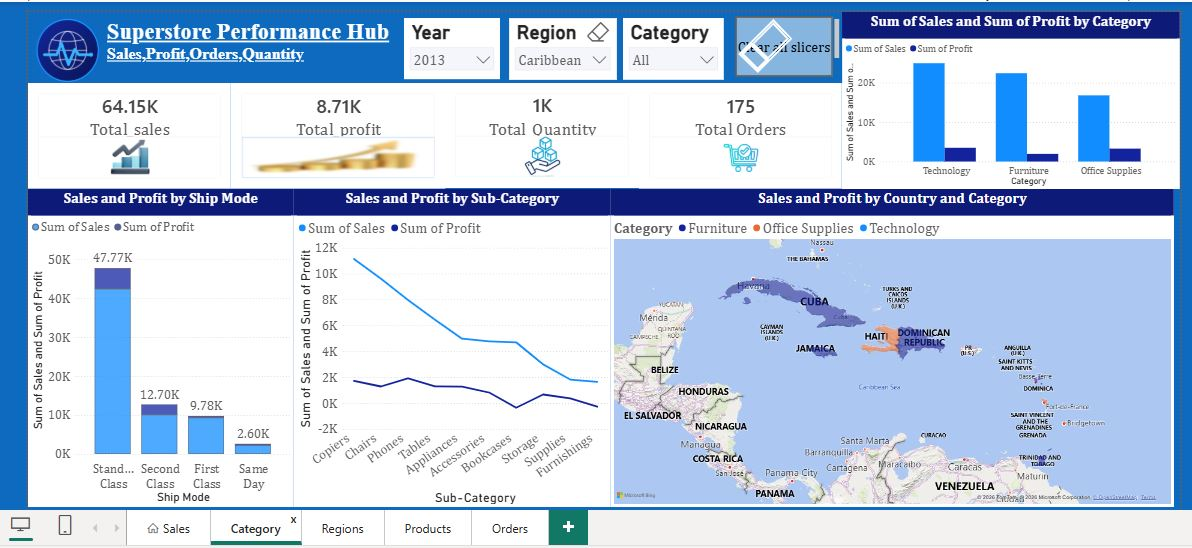

Layout of this report page (visuals, bound fields, positions):
{"tool":"powerbi","page":{"name":"Category","canvas":[1920,1080],"ordinal":1},"visuals":[{"type":"lineStackedColumnComboChart","title":"Sales and Profit by Ship Mode","fields":{"Category":["Orders.Ship Mode"],"Y":["Sum(Orders.Sales)","Sum(Orders.Profit)"]},"box":[0,295,443.3,530],"z":0},{"type":"filledMap","title":"Sales and Profit by Country and Category","fields":{"Category":["Orders.Country"],"Series":["Orders.Category"]},"box":[971.7,295,938.3,530],"z":1000},{"type":"lineChart","title":"Sales and Profit by Sub-Category","fields":{"Category":["Orders.Sub-Category"],"Y":["Sum(Orders.Sales)","Sum(Orders.Profit)"]},"box":[443.3,295,528.3,530],"z":2000},{"type":"clusteredColumnChart","fields":{"Category":["Orders.Category"],"Y":["Sum(Orders.Sales)","Sum(Orders.Profit)"]},"box":[1357.1,0,563.5,295.2],"z":3000},{"type":"textbox","title":"Superstore Performance Hub","box":[0,6.3,1357.1,111.1],"z":4000},{"type":"image","box":[6.3,9.5,119,107.9],"z":5000},{"type":"slicer","fields":{"Values":["Custom_Calender.Date.Variation.Date Hierarchy.Year"]},"box":[627,9.5,160.3,101.6],"z":6000},{"type":"slicer","fields":{"Values":["Orders.Category"]},"box":[992.1,9.5,168.3,103.2],"z":7000},{"type":"slicer","fields":{"Values":["Orders.Region"]},"box":[801.6,9.5,179.4,103.2],"z":8000},{"type":"actionButton","box":[1177.8,6.3,163.5,101.6],"z":9000},{"type":"cardVisual","fields":{"Data":["Profit-measures.Total_sales"]},"box":[0,119,338.1,176.2],"z":10000},{"type":"cardVisual","fields":{"Data":["Profit-measures.Totl_qunatity"]},"box":[695.2,119,323.8,174.6],"z":11000},{"type":"cardVisual","fields":{"Data":["Profit-measures.Total Orders"]},"box":[1019,119,338.1,176.2],"z":12000},{"type":"cardVisual","fields":{"Data":["Profit-measures.Total_profit"]},"box":[338.1,119,357.1,176.2],"z":13000}]}

Visuals, with their boxes on the page's 1920x1080 design canvas (x1, y1, x2, y2). These are canvas units, not pixel positions in the 1192x548 screenshot, which may show the page scaled, cropped or inside an application window:
"Sales and Profit by Ship Mode" lineStackedColumnComboChart: (left=0, top=295, right=443, bottom=825)
"Sales and Profit by Country and Category" filledMap: (left=972, top=295, right=1910, bottom=825)
"Sales and Profit by Sub-Category" lineChart: (left=443, top=295, right=972, bottom=825)
clusteredColumnChart - Orders.Category x Sum(Orders.Sales): (left=1357, top=0, right=1921, bottom=295)
"Superstore Performance Hub" textbox: (left=0, top=6, right=1357, bottom=117)
image: (left=6, top=10, right=125, bottom=117)
slicer - Custom_Calender.Date.Variation.Date Hierarchy.Year: (left=627, top=10, right=787, bottom=111)
slicer - Orders.Category: (left=992, top=10, right=1160, bottom=113)
slicer - Orders.Region: (left=802, top=10, right=981, bottom=113)
actionButton: (left=1178, top=6, right=1341, bottom=108)
cardVisual - Profit-measures.Total_sales: (left=0, top=119, right=338, bottom=295)
cardVisual - Profit-measures.Totl_qunatity: (left=695, top=119, right=1019, bottom=294)
cardVisual - Profit-measures.Total Orders: (left=1019, top=119, right=1357, bottom=295)
cardVisual - Profit-measures.Total_profit: (left=338, top=119, right=695, bottom=295)
